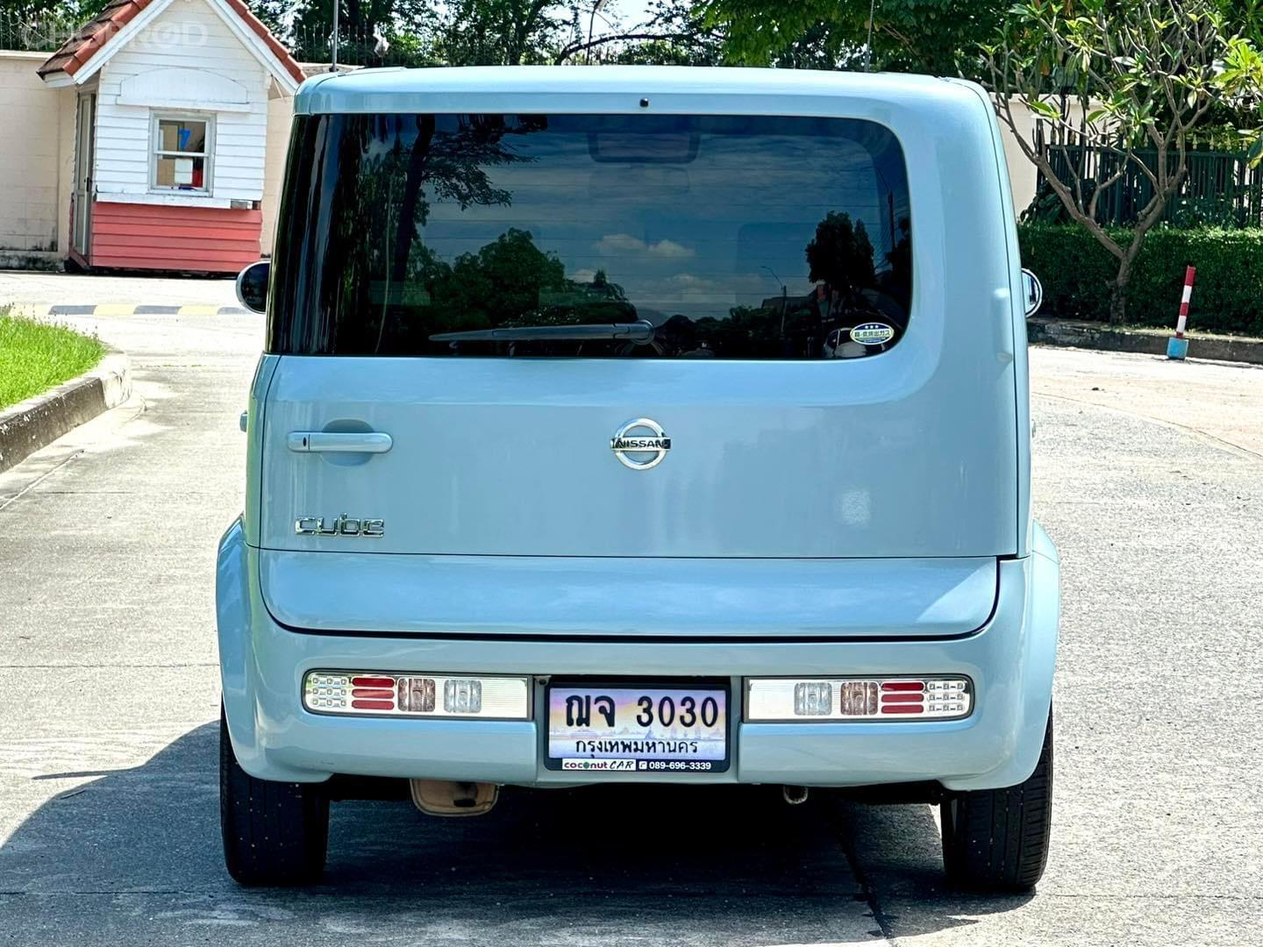license-plate: (540, 672, 743, 780)
